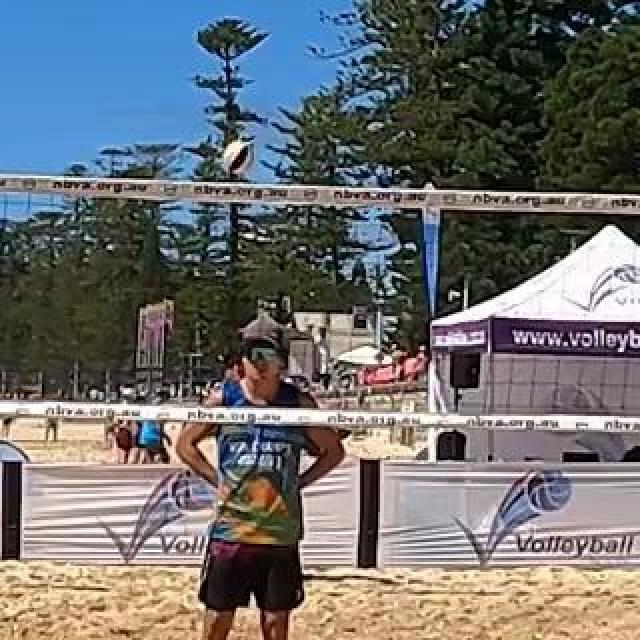volleyball: (223, 141, 255, 173)
